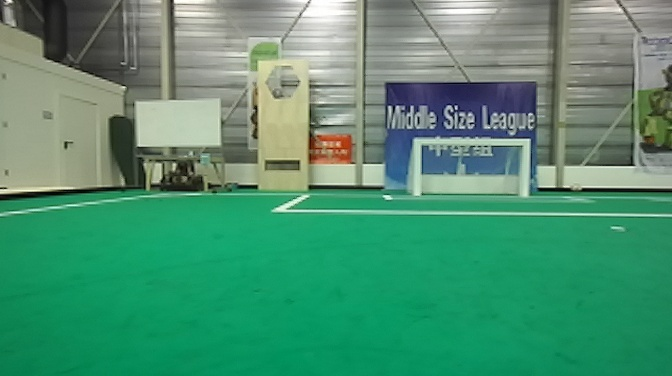ball: (568, 181, 587, 195)
goalpost: (514, 134, 532, 198), (411, 135, 425, 197)
